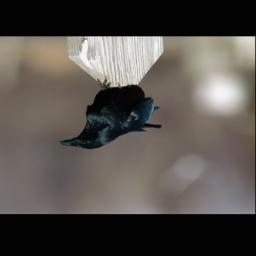Crow: (59, 79, 162, 149)
